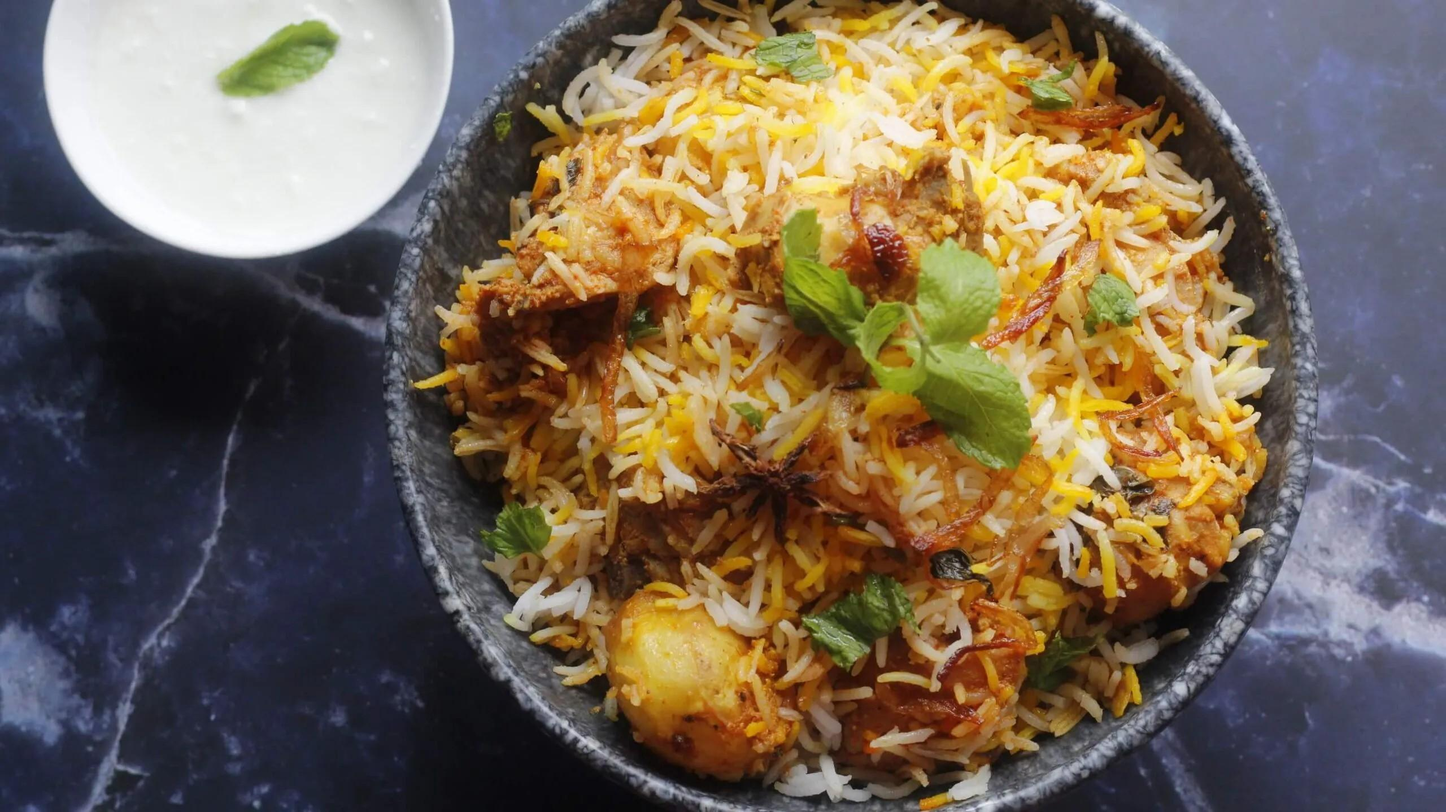Biryani: (407, 0, 1278, 812)
